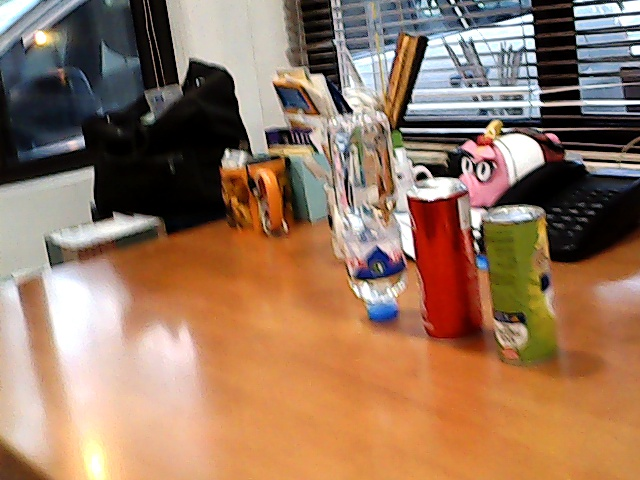Cola: (399, 172, 490, 345)
Pine Juice: (470, 200, 569, 369)
Summit Water: (315, 104, 409, 325)
